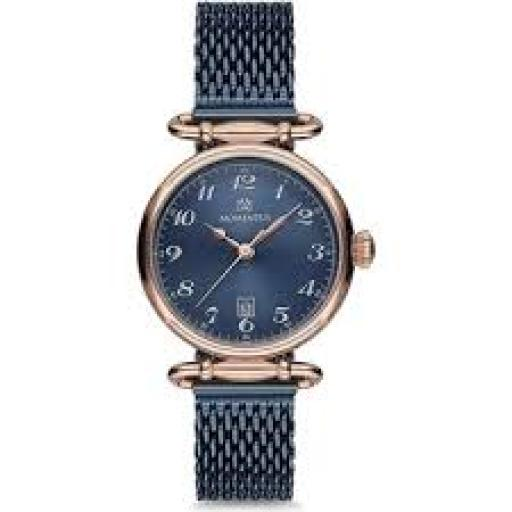KolSaati: (113, 0, 383, 512)
